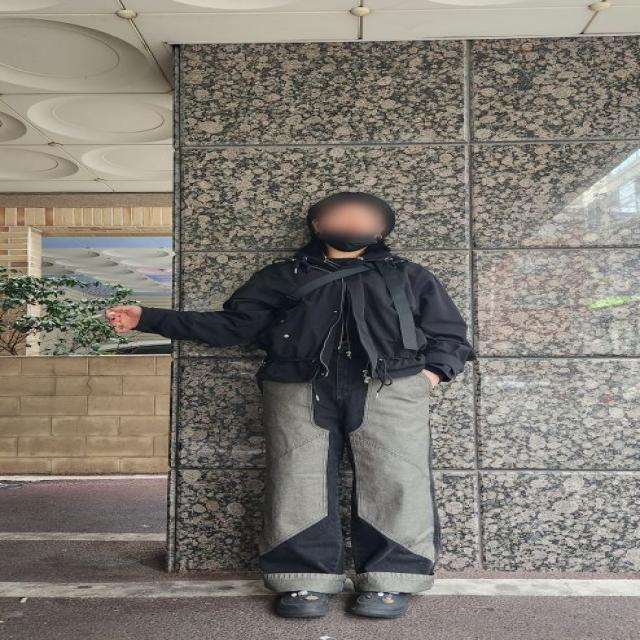denimpants: (256, 360, 434, 590)
jacket: (147, 236, 478, 380)
